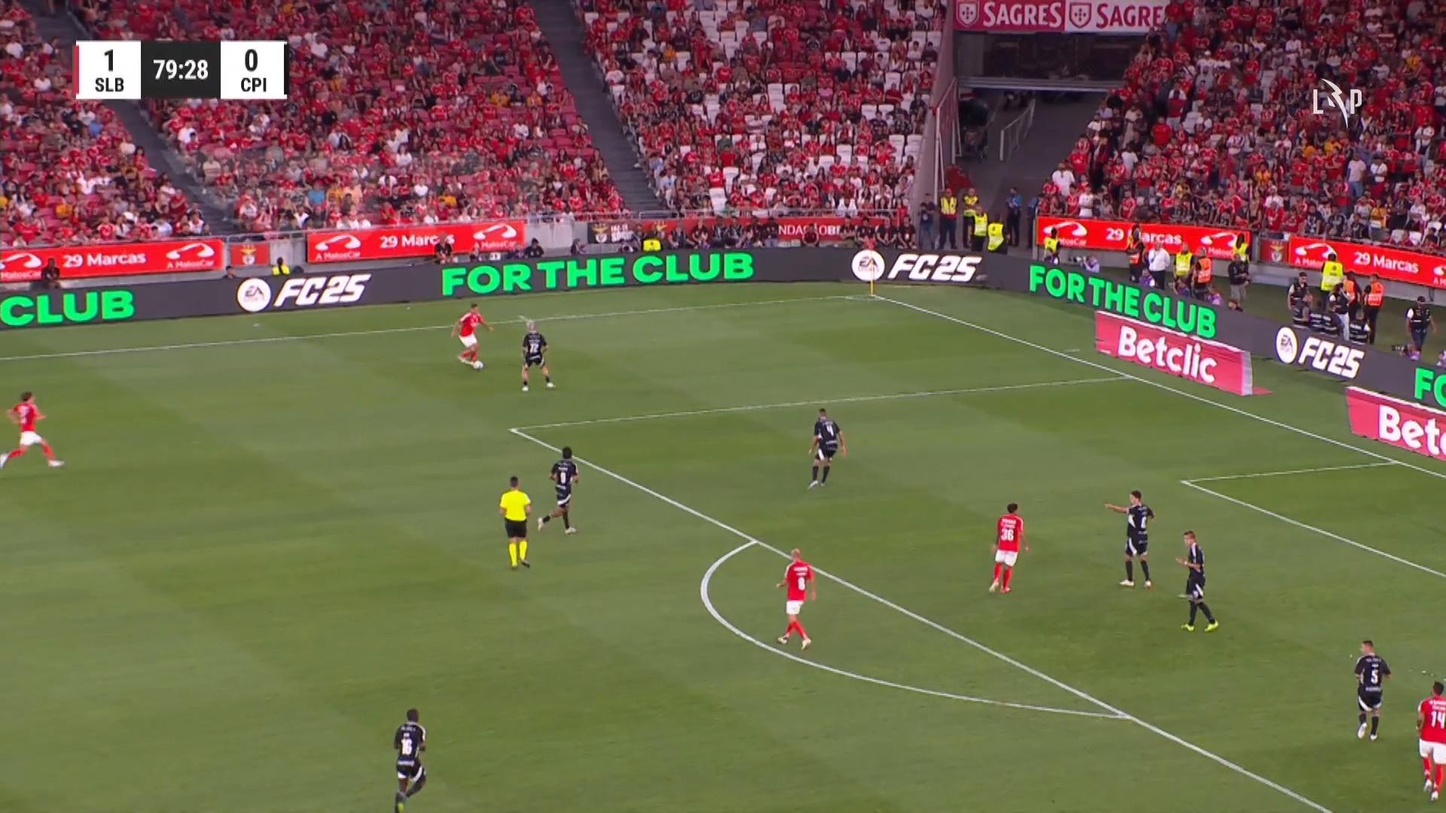ball: (468, 358, 485, 373)
player: (0, 390, 65, 470), (1103, 489, 1155, 587), (1174, 529, 1219, 632), (774, 547, 816, 650), (535, 445, 579, 534), (1353, 638, 1391, 740), (987, 501, 1029, 593), (1415, 679, 1445, 801), (392, 707, 427, 811), (806, 406, 847, 489), (450, 302, 493, 370), (519, 319, 554, 391)
referee: (498, 474, 532, 568)
